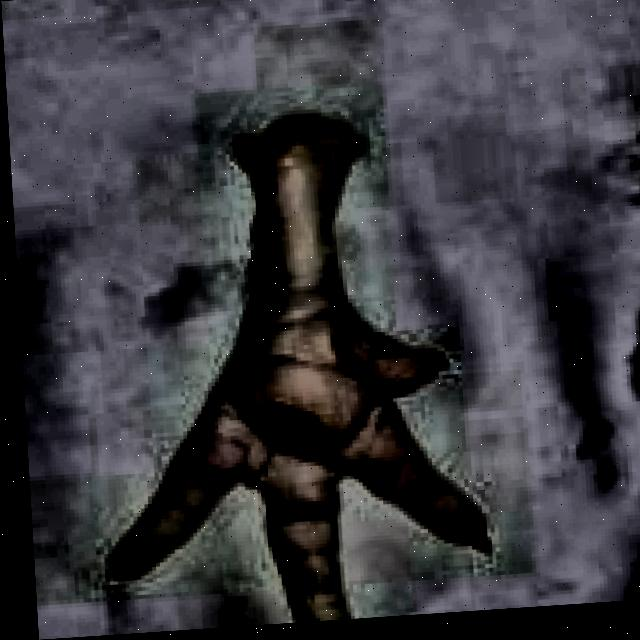Bumble foot: (77, 109, 495, 636), (258, 402, 318, 448)
